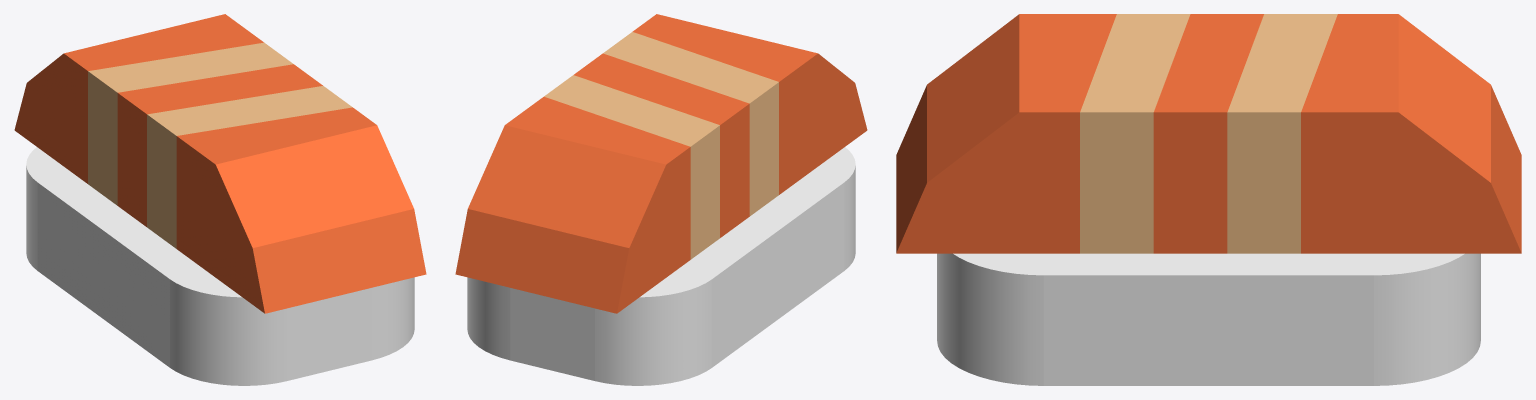
The model's file is sushiSalmon.fbx.
3 views of the same model, side by side, from view 1: azimuth 30°, elevation 25°; view 2: azimuth 150°, elevation 25°; view 3: azimuth 270°, elevation 25° (orthographic). The views are drawn at different scales.
Visible parts, largest first — view 1: salmon, sushiSalmon; view 2: salmon, sushiSalmon; view 3: salmon, sushiSalmon.
Boxes of the visible parts, box(x1,y1,x2,y2) form: salmon: box(14, 14, 426, 313); sushiSalmon: box(26, 147, 414, 385); salmon: box(455, 14, 867, 313); sushiSalmon: box(467, 147, 855, 385); salmon: box(896, 14, 1521, 253); sushiSalmon: box(937, 253, 1480, 385).
Bounding box in the file's own units: 1.08 × 0.8918 × 2.01.
